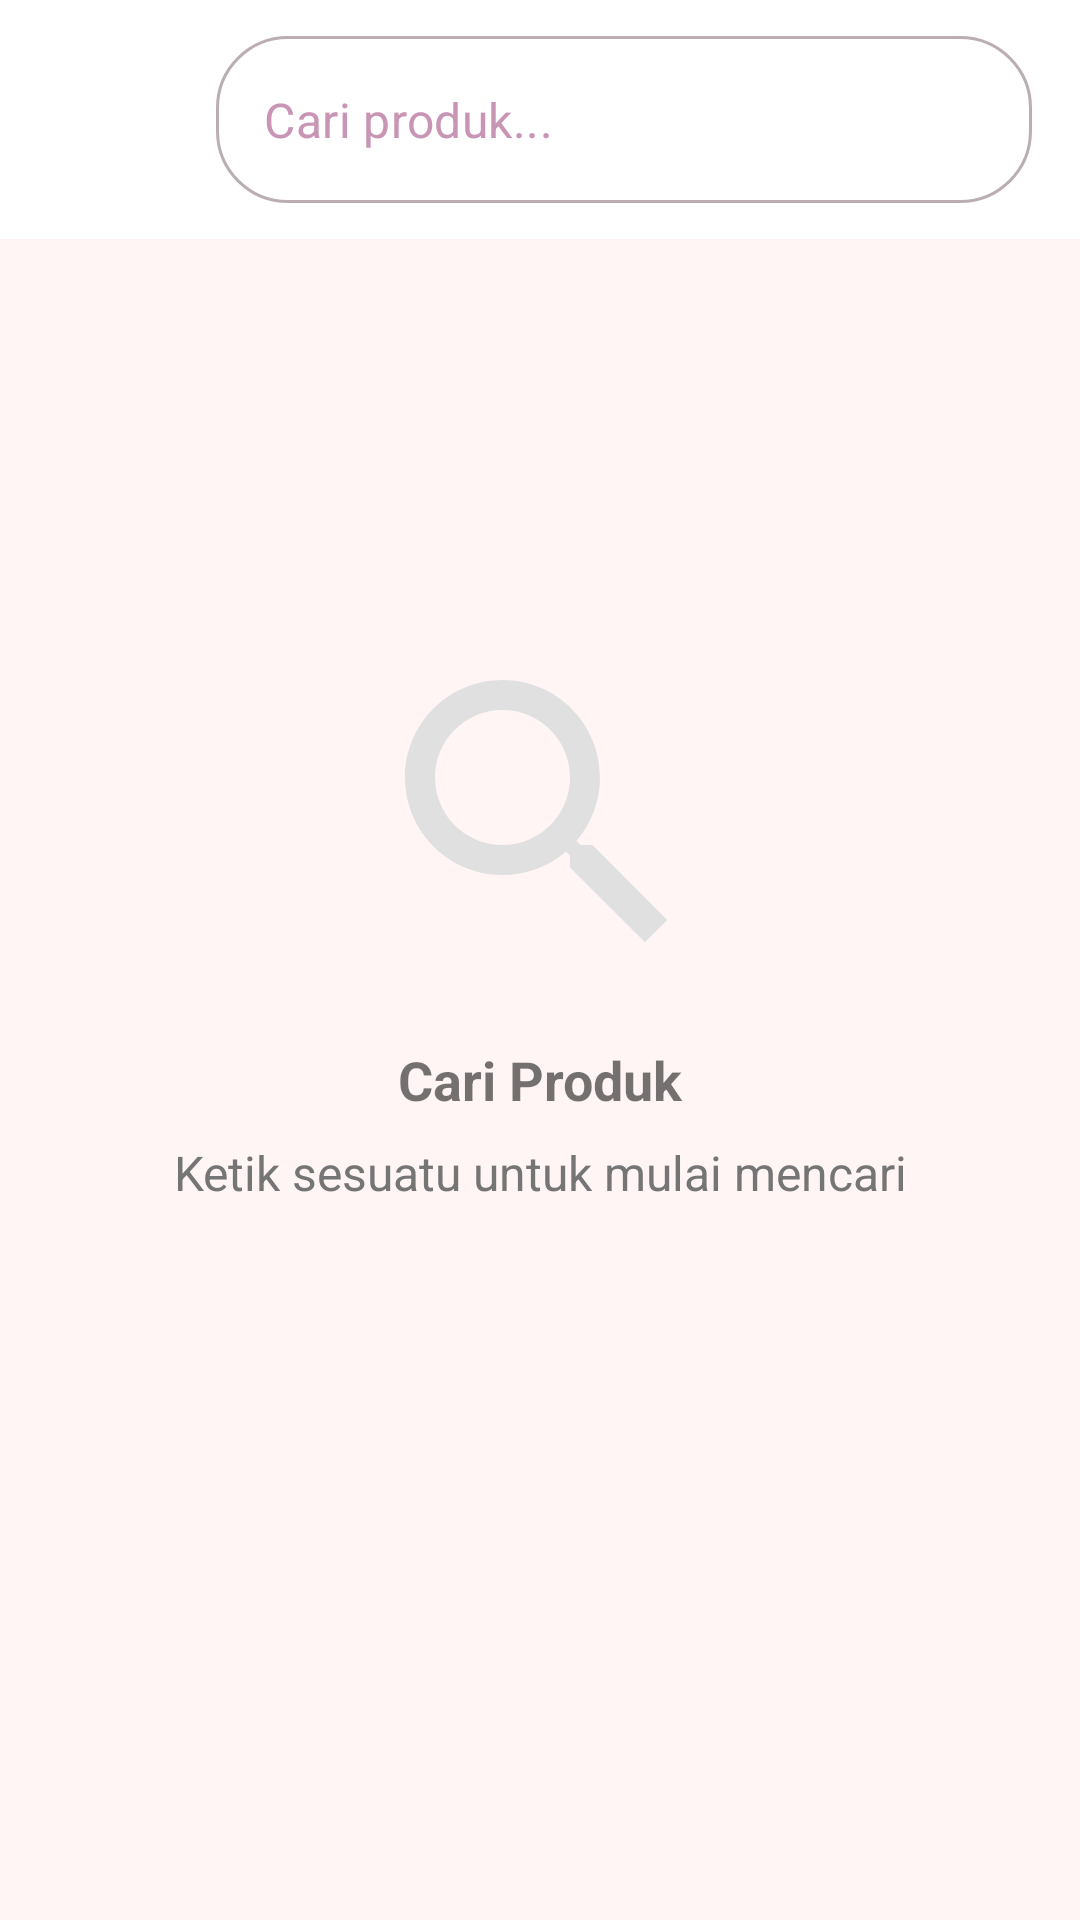

Point at icon controls on the screen. Image size 1080 × 1920, points as (x=x, y=y).
search: (x=536, y=810)
